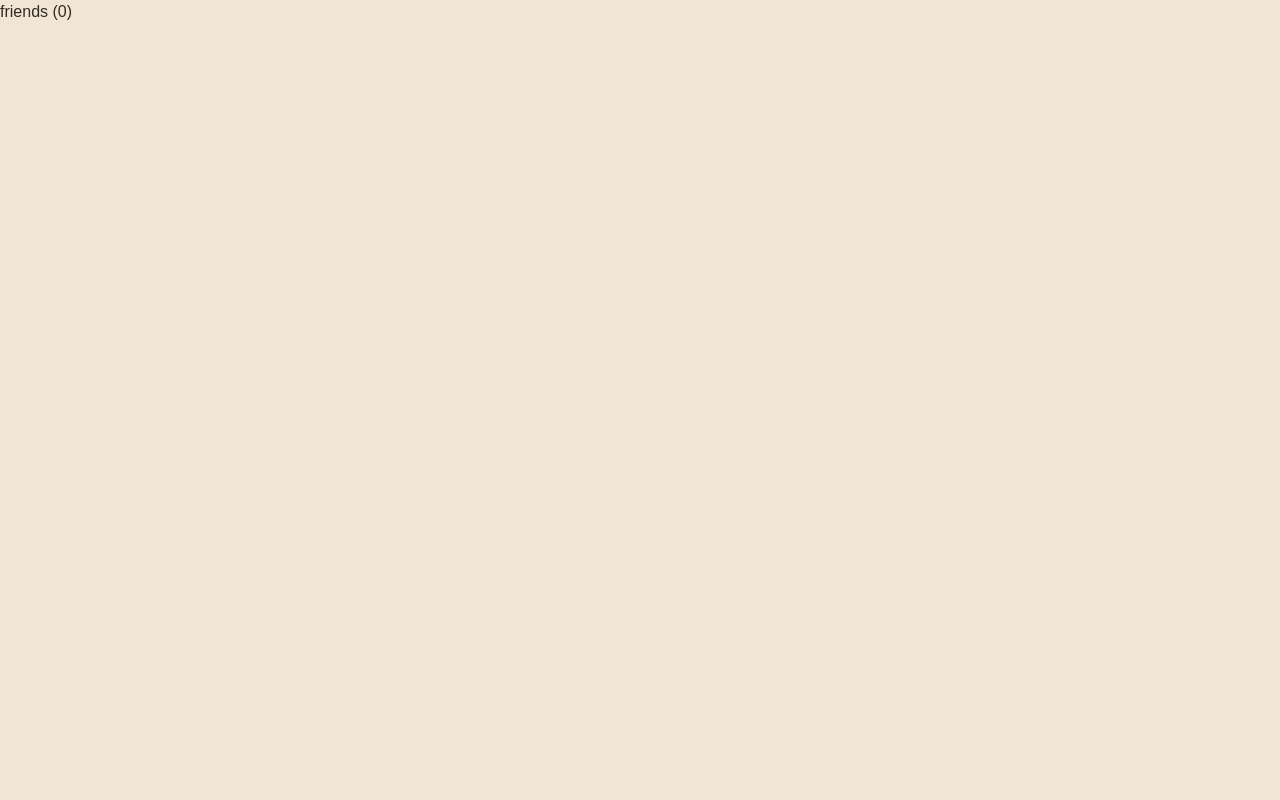
it: FriendsPanel › search › sends then cancels a request
The width and height of the screenshot is (1280, 800).
Click the button "friends (0)" at (36, 12), box [0,0,72,24]
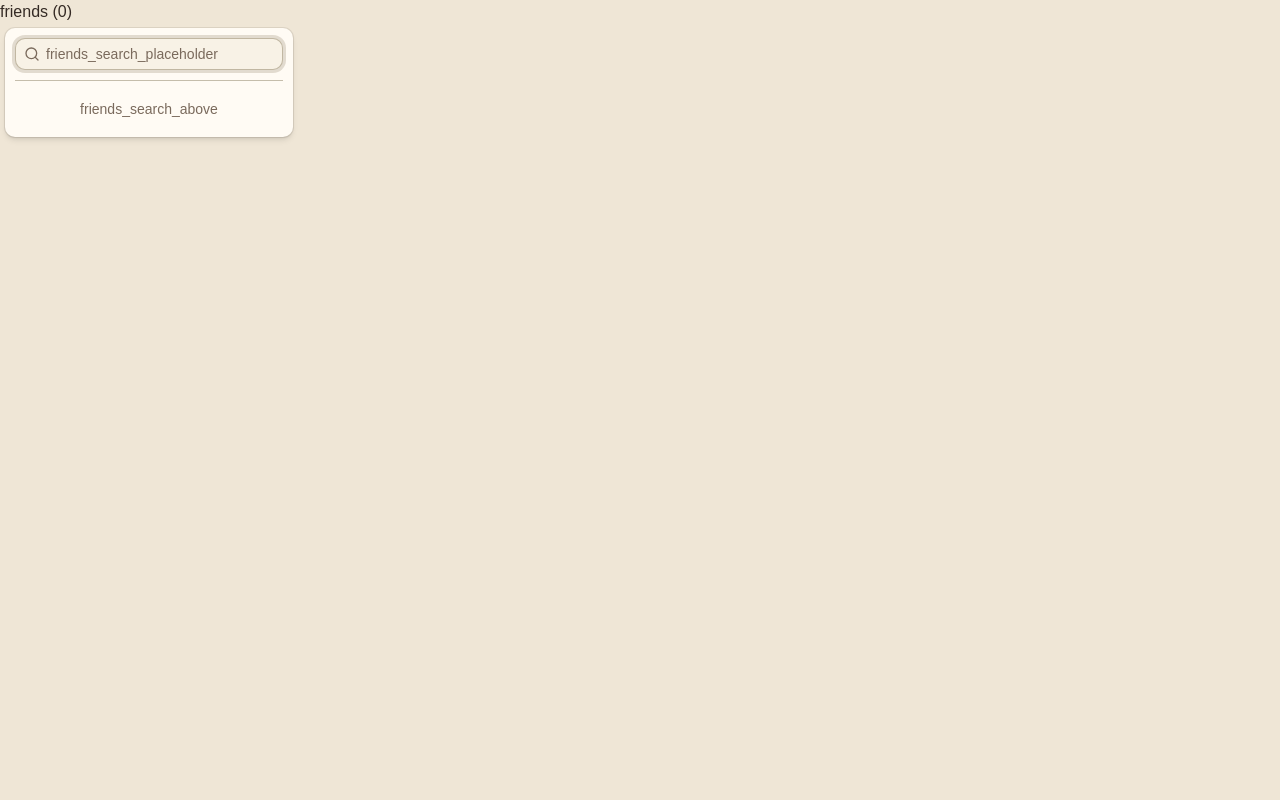
Type "newbie" into the field with placeholder "friends_search_placeholder" at (161, 54), box [40,38,282,70]
Wait 400 ms
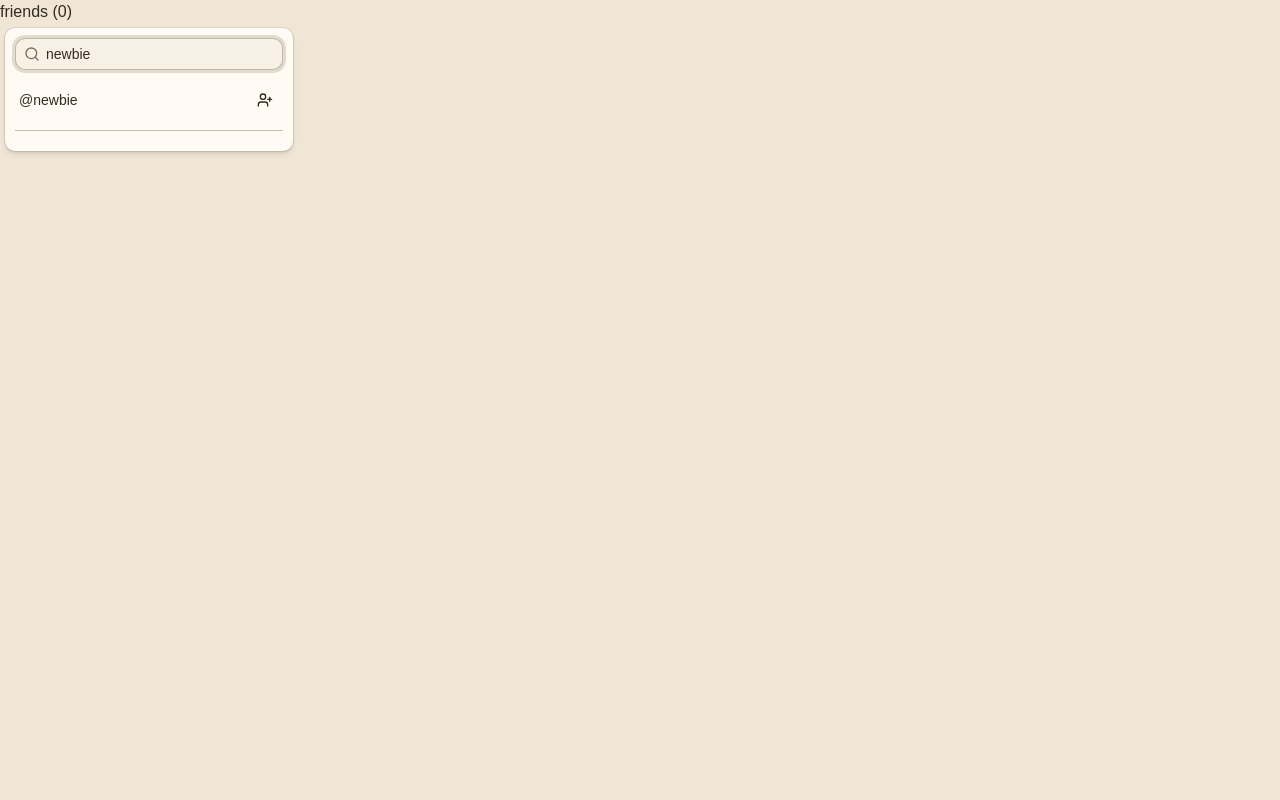
Click the button named "friends_add" at (265, 100), box [251,86,279,114]
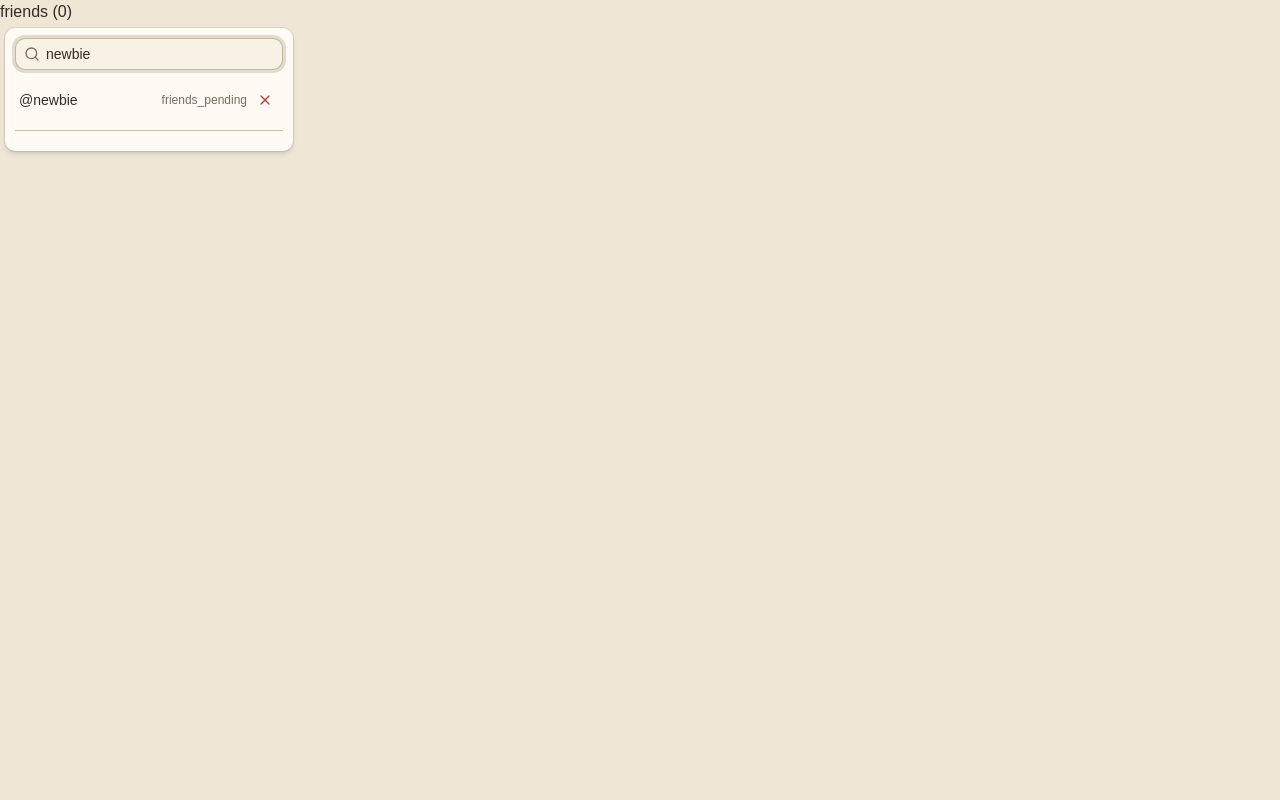
expect the text "friends_pending" is shown: met, box [162,92,247,108]
Click the button named "friends_cancel" at (265, 100), box [251,86,279,114]
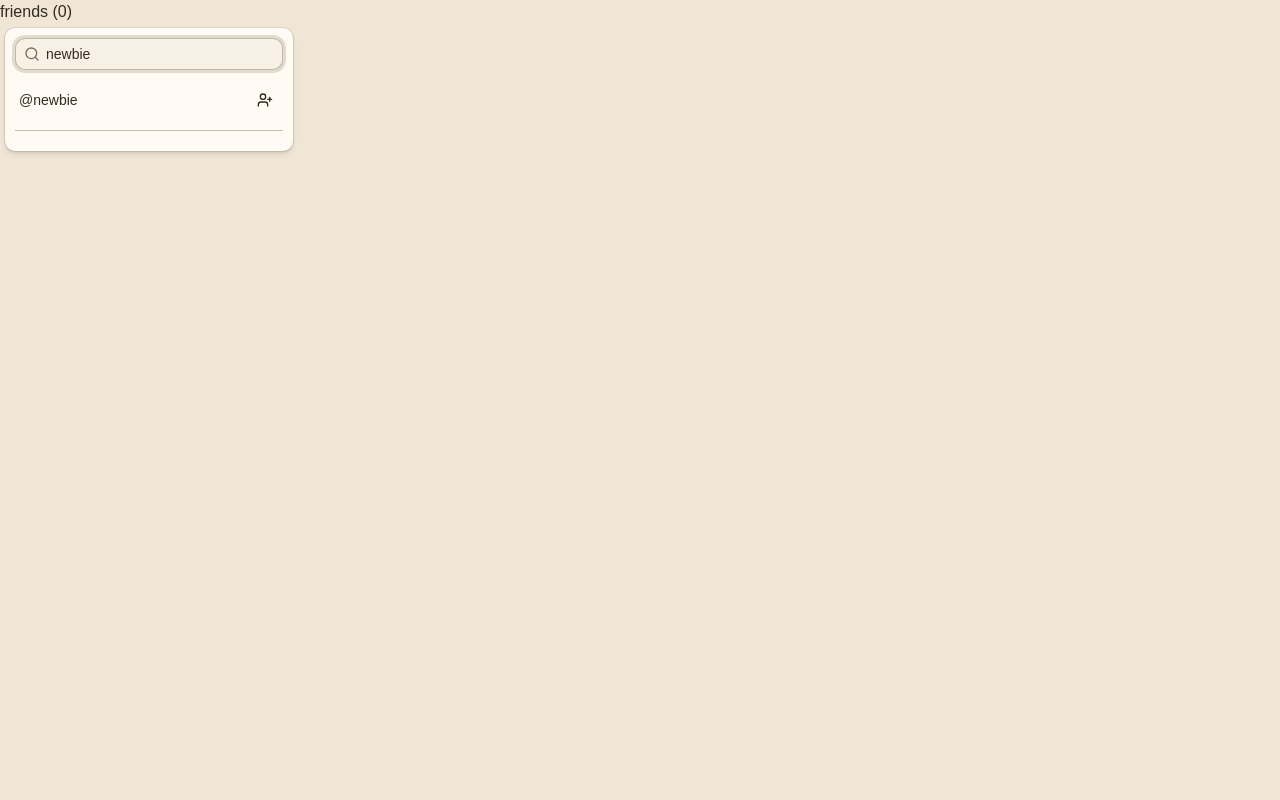
expect the button named "friends_add" is shown: met, box [251,86,279,114]
